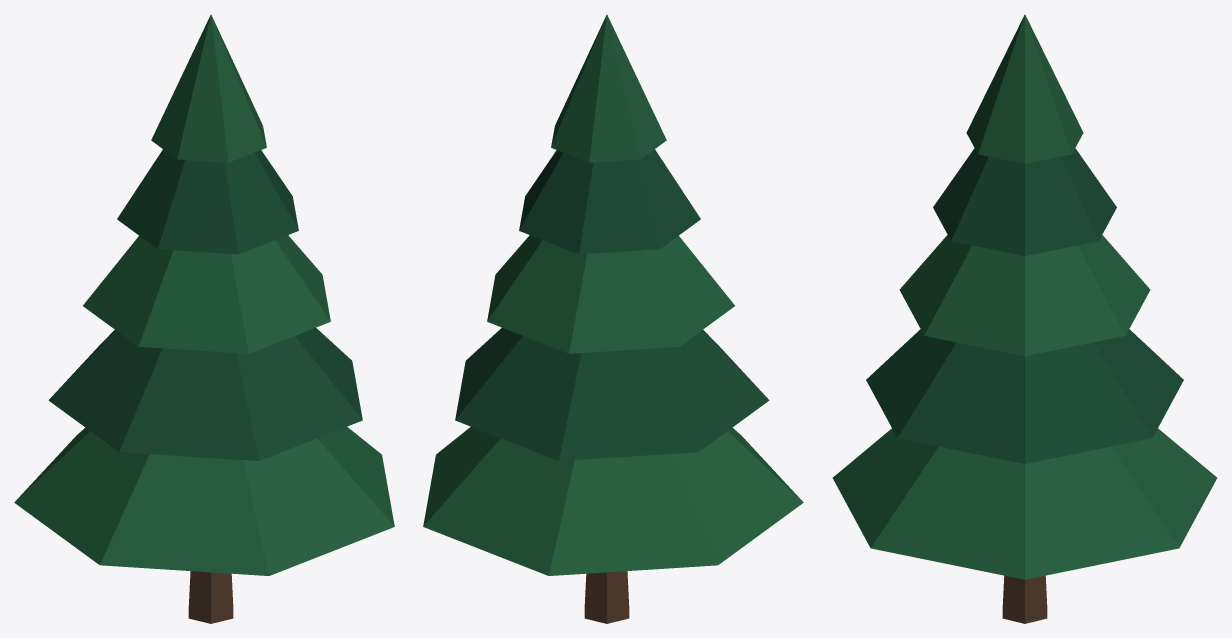
File: tree_2.obj
3 renders of one model, left to right at view 1: azimuth 30°, elevation 25°; view 2: azimuth 150°, elevation 25°; view 3: azimuth 270°, elevation 25°, orthographic.
Parts seen in each view (by area): view 1: tree_2; view 2: tree_2; view 3: tree_2.
Boxes of the visible parts, x1=… form: tree_2: x1=14, y1=14, x2=394, y2=623; tree_2: x1=423, y1=14, x2=803, y2=623; tree_2: x1=832, y1=14, x2=1217, y2=623.
Bounding box in the file's own units: 4.37 × 7.7 × 4.48.
